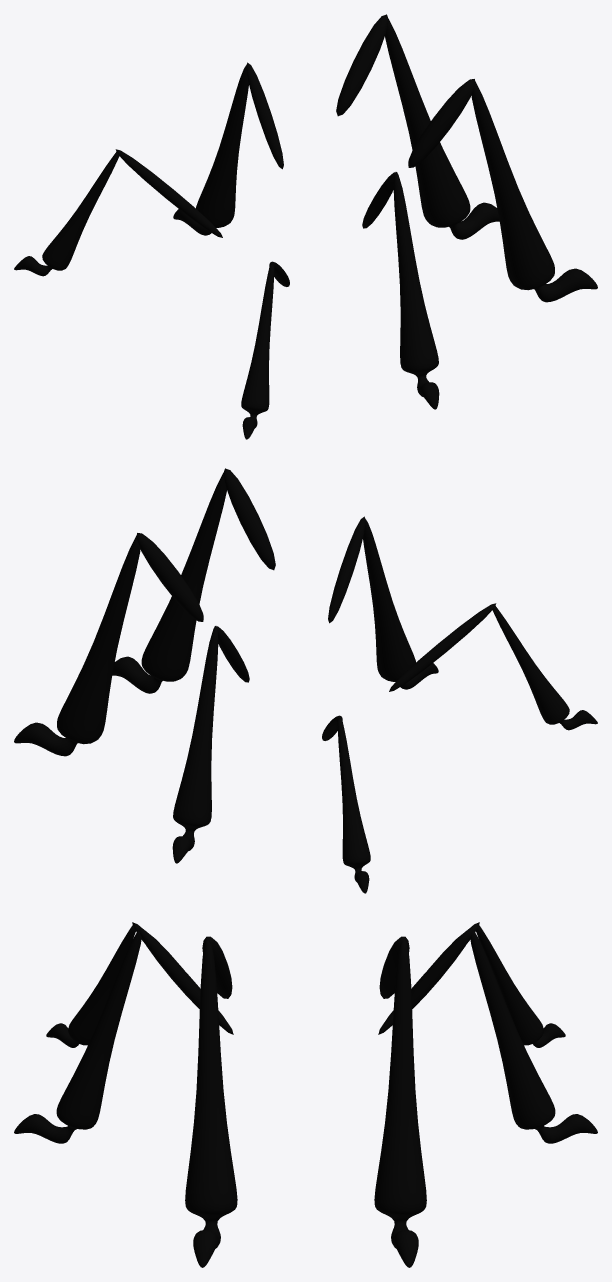
Rendered from example legs.fbx.
3 views of the same model, one above another, from view 1: azimuth 30°, elevation 25°; view 2: azimuth 150°, elevation 25°; view 3: azimuth 270°, elevation 25° (orthographic). The views are drawn at different scales.
Visible parts, largest first — view 1: Cube.012, Cube.007, Cube.015, Cube.009, Cube.013, Cube.011, Cube.006, Cube.017, Cube.010, Cube.008, Cube.016; view 2: Cube.007, Cube.012, Cube.009, Cube.015, Cube.011, Cube.013, Cube.017, Cube.006, Cube.014, Cube.016, Cube.008; view 3: Cube.007, Cube.012, Cube.009, Cube.015, Cube.011, Cube.013, Cube.008, Cube.016, Cube.006, Cube.017.
Part boxes in pixels (<box>): Cube.012: <box>471,81,597,302</box>; Cube.007: <box>385,19,499,239</box>; Cube.015: <box>393,173,439,409</box>; Cube.009: <box>173,63,248,235</box>; Cube.013: <box>241,264,274,439</box>; Cube.011: <box>14,152,119,276</box>; Cube.006: <box>336,14,388,116</box>; Cube.017: <box>408,79,475,167</box>; Cube.010: <box>115,149,222,237</box>; Cube.008: <box>246,62,283,169</box>; Cube.016: <box>362,172,397,228</box>; Cube.007: <box>14,535,140,756</box>; Cube.012: <box>112,473,226,693</box>; Cube.009: <box>172,627,218,863</box>; Cube.015: <box>363,517,438,689</box>; Cube.011: <box>337,718,370,893</box>; Cube.013: <box>492,606,597,730</box>; Cube.017: <box>223,468,275,570</box>; Cube.006: <box>136,533,203,621</box>; Cube.014: <box>389,603,496,691</box>; Cube.016: <box>328,516,365,623</box>; Cube.008: <box>214,626,249,682</box>; Cube.007: <box>374,940,426,1267</box>; Cube.012: <box>185,940,237,1267</box>; Cube.009: <box>470,928,597,1143</box>; Cube.015: <box>14,928,141,1143</box>; Cube.011: <box>476,925,565,1047</box>; Cube.013: <box>46,925,135,1047</box>; Cube.008: <box>411,928,472,1009</box>; Cube.016: <box>139,928,200,1009</box>; Cube.006: <box>379,936,409,998</box>; Cube.017: <box>202,936,232,998</box>.
Bounding box in the file's own units: 177 × 96.82 × 190.
